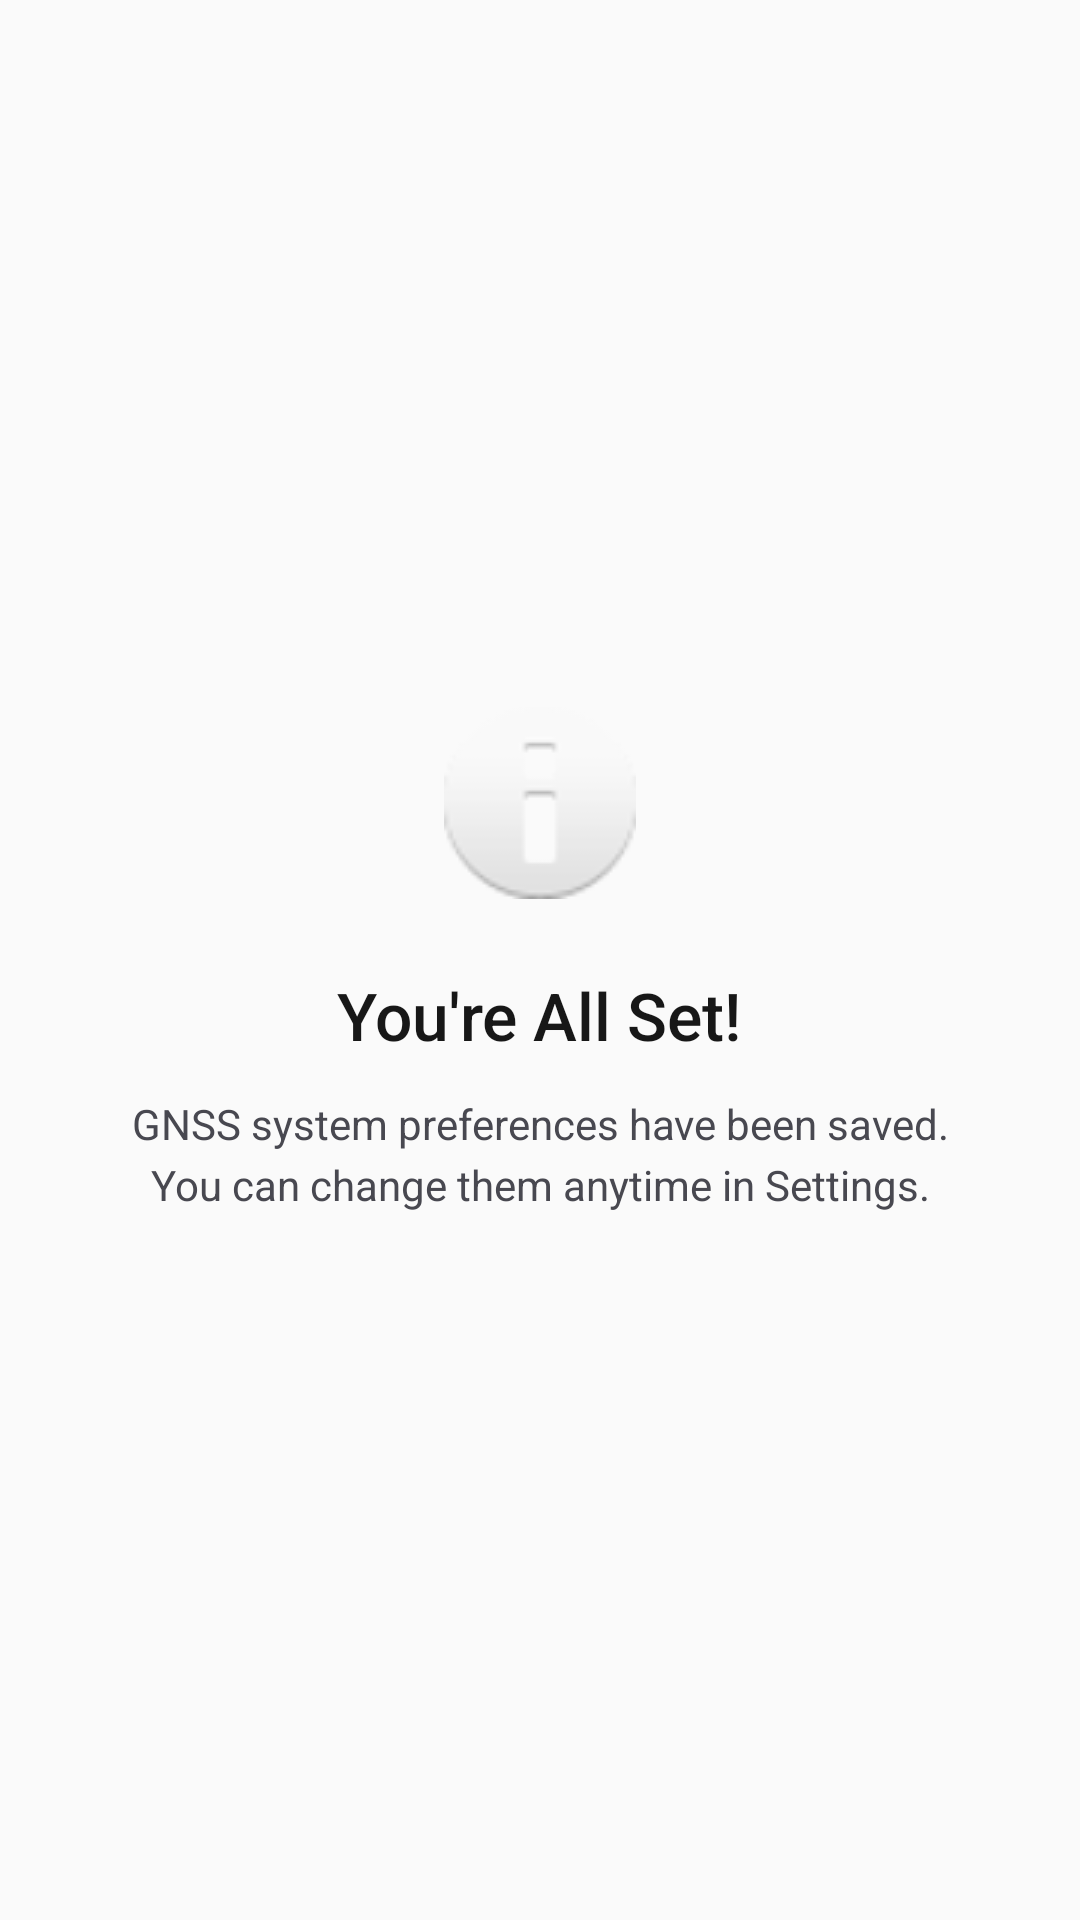

Screen size 1080×1920. Icon name, then its box in pixels as detection(x1, y1, x2, y2):
info: detection(444, 742, 636, 899)
